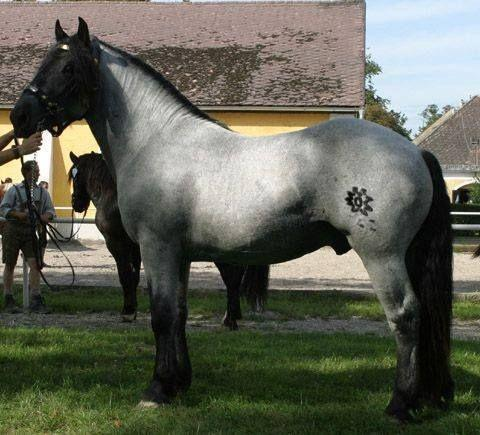horse: (9, 15, 455, 424), (67, 149, 269, 328)
